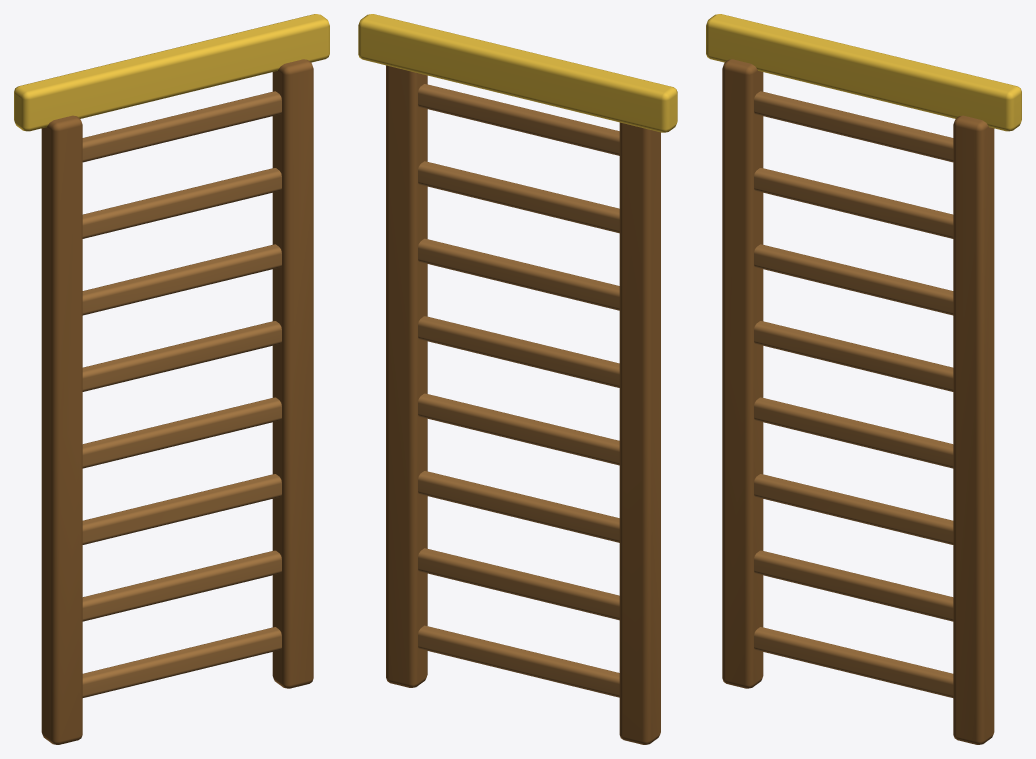
The model's file is furn_hayloft_ladder.glb.
3 views of the same model, side by side, from view 1: azimuth 30°, elevation 25°; view 2: azimuth 150°, elevation 25°; view 3: azimuth 330°, elevation 25° (orthographic).
Parts seen in each view (by area): view 1: furn_hayloft_ladder_main, furn_hayloft_ladder_gloss; view 2: furn_hayloft_ladder_main, furn_hayloft_ladder_gloss; view 3: furn_hayloft_ladder_main, furn_hayloft_ladder_gloss.
Boxes of the visible parts, box(x1,y1,x2,y2) form: furn_hayloft_ladder_main: box(41, 59, 313, 744); furn_hayloft_ladder_gloss: box(14, 14, 329, 131); furn_hayloft_ladder_main: box(386, 65, 660, 744); furn_hayloft_ladder_gloss: box(358, 14, 677, 132); furn_hayloft_ladder_main: box(722, 59, 994, 744); furn_hayloft_ladder_gloss: box(706, 14, 1021, 131).
Bounding box in the file's own units: 0.8 × 1.62 × 0.09.
